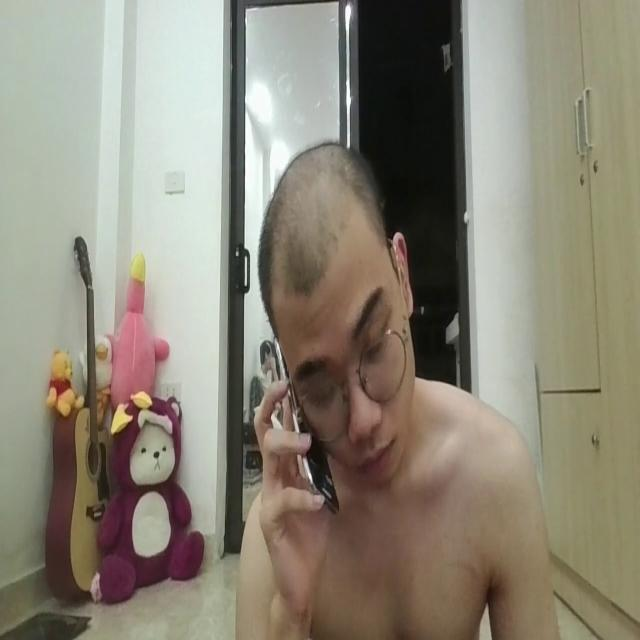phone: (268, 313, 337, 520)
student: (220, 126, 586, 640)
